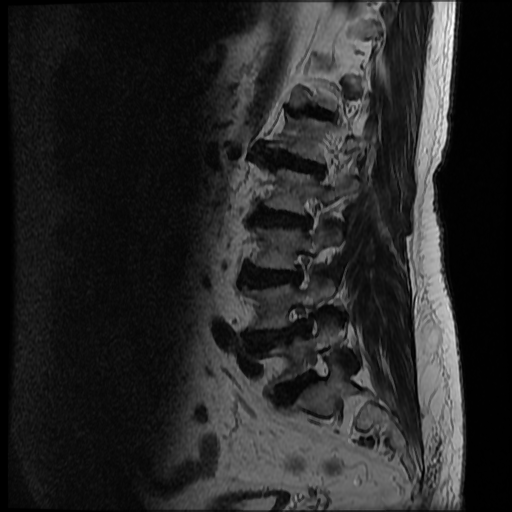LFS0: (292, 188, 330, 243), (280, 245, 319, 295)
LFS2: (278, 296, 322, 346)
